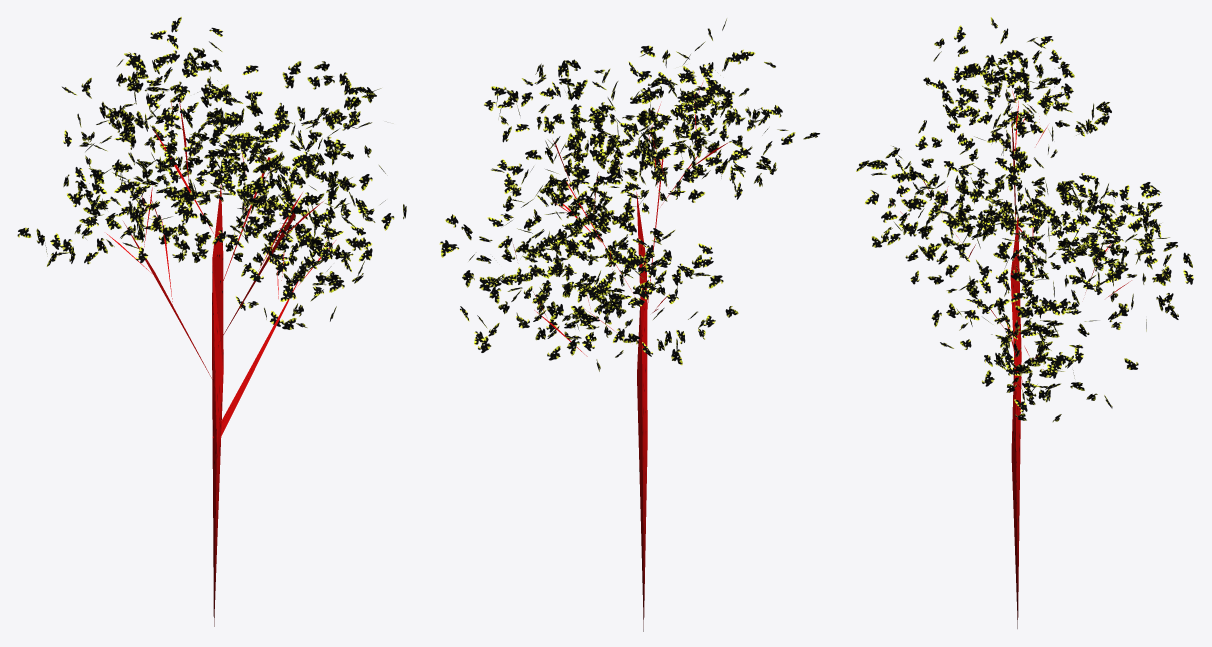
The model's file is birch_pale_v01_LOD2.glb.
3 views of the same model, side by side, from view 1: azimuth 30°, elevation 25°; view 2: azimuth 150°, elevation 25°; view 3: azimuth 270°, elevation 25° (orthographic). The views are drawn at different scales.
Visible parts, largest first — view 1: birch_pale_v01_LOD2; view 2: birch_pale_v01_LOD2; view 3: birch_pale_v01_LOD2.
Boxes of the visible parts, <box> form: birch_pale_v01_LOD2: <box>17,17,406,626</box>; birch_pale_v01_LOD2: <box>439,19,819,631</box>; birch_pale_v01_LOD2: <box>856,17,1193,628</box>.
Bounding box in the file's own units: 8.99 × 15.08 × 8.07.
2 materials, 2 textured.
